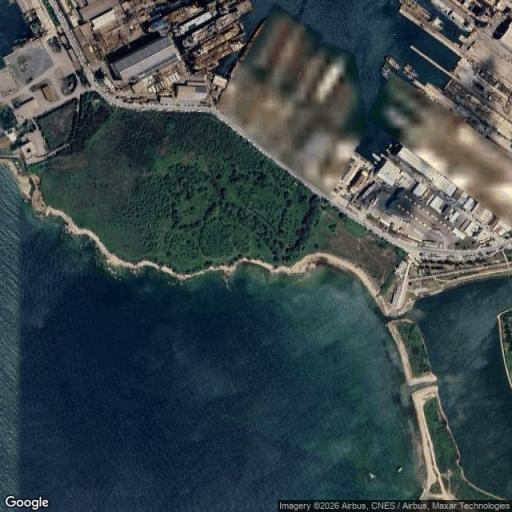ship: (148, 1, 205, 33), (182, 14, 235, 47), (231, 24, 263, 75), (194, 37, 243, 70), (192, 25, 240, 58), (193, 25, 240, 57), (398, 0, 444, 31), (429, 0, 475, 31), (449, 0, 493, 24), (174, 12, 215, 37), (385, 56, 399, 70), (404, 64, 417, 79), (381, 64, 390, 79), (503, 100, 511, 114), (372, 153, 381, 162), (410, 69, 418, 79), (368, 472, 376, 479), (397, 467, 402, 472), (510, 273, 511, 279)
